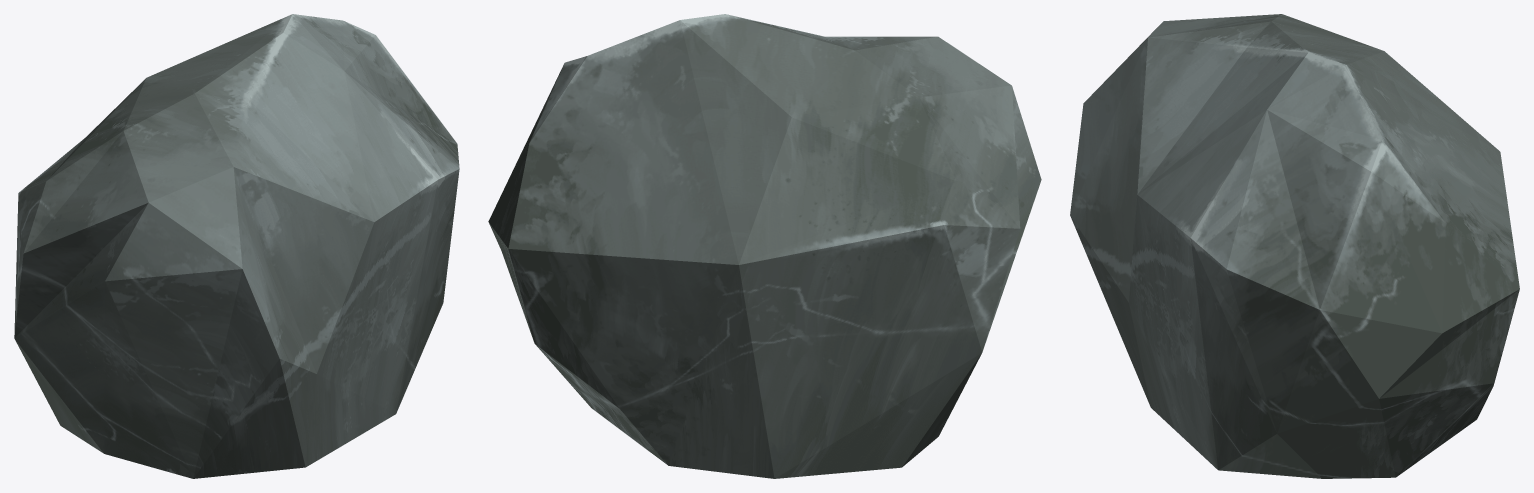
Rendered from glaz_4.obj.
The picture shows the model from 3 angles, left to right: view 1: azimuth 30°, elevation 25°; view 2: azimuth 150°, elevation 25°; view 3: azimuth 270°, elevation 25°; orthographic projection. The views are drawn at different scales.
Parts seen in each view (by area): view 1: rock.010; view 2: rock.010; view 3: rock.010.
Boxes of the visible parts, <box> form: rock.010: <box>14,14,459,478</box>; rock.010: <box>488,14,1041,478</box>; rock.010: <box>1070,14,1519,478</box>.
Size of the model in its own units: 18.37 by 14.29 by 15.25.
1 material, 1 textured.
